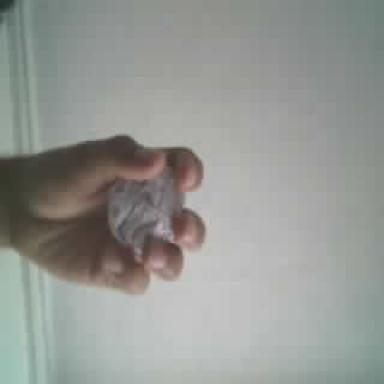paper: (109, 166, 184, 254)
